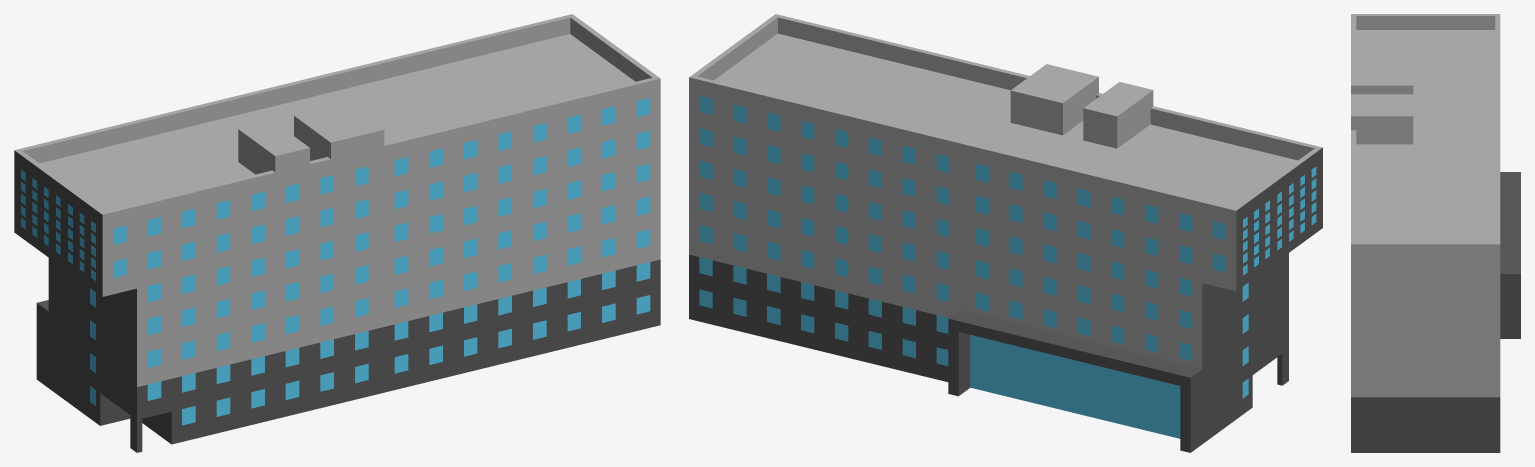
The model's file is BitSolB.glb.
3 views of the same model, side by side, from view 1: azimuth 30°, elevation 25°; view 2: azimuth 150°, elevation 25°; view 3: azimuth 270°, elevation 25° (orthographic). The views are drawn at different scales.
Parts seen in each view (by area): view 1: Main, Dark, Window; view 2: Main, Dark, Window; view 3: Main, Dark.
Part boxes in pixels (x1,y1,x2,y2): Main: [14, 14, 660, 386]; Dark: [14, 150, 660, 452]; Window: [21, 97, 650, 425]; Main: [689, 14, 1322, 368]; Dark: [689, 147, 1322, 452]; Window: [699, 96, 1316, 438]; Main: [1351, 14, 1500, 397]; Dark: [1351, 172, 1520, 452].
Size of the model in its own units: 53.3 by 24 by 16.6.
